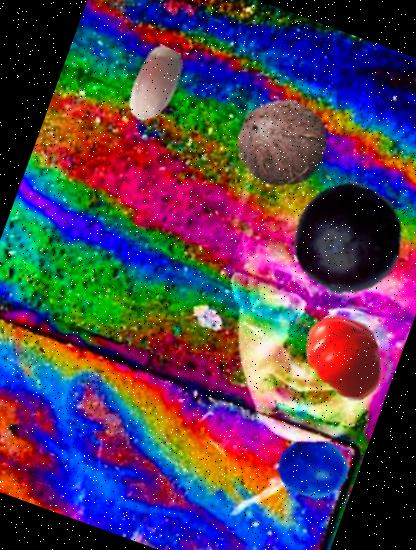Cocos: (222, 83, 340, 202)
Hazelnut: (102, 33, 205, 136)
Huckleberry: (267, 425, 358, 516)
Plum: (275, 165, 416, 310)
Tomato: (285, 300, 402, 416)
